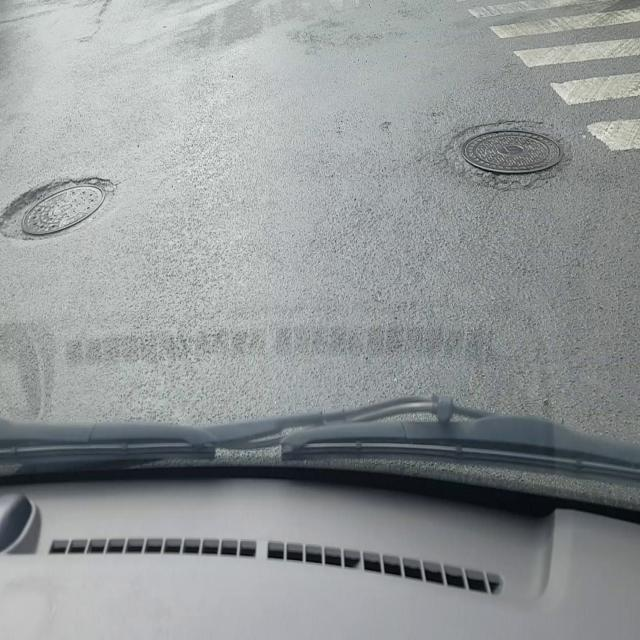Pothole: (0, 173, 114, 241)
